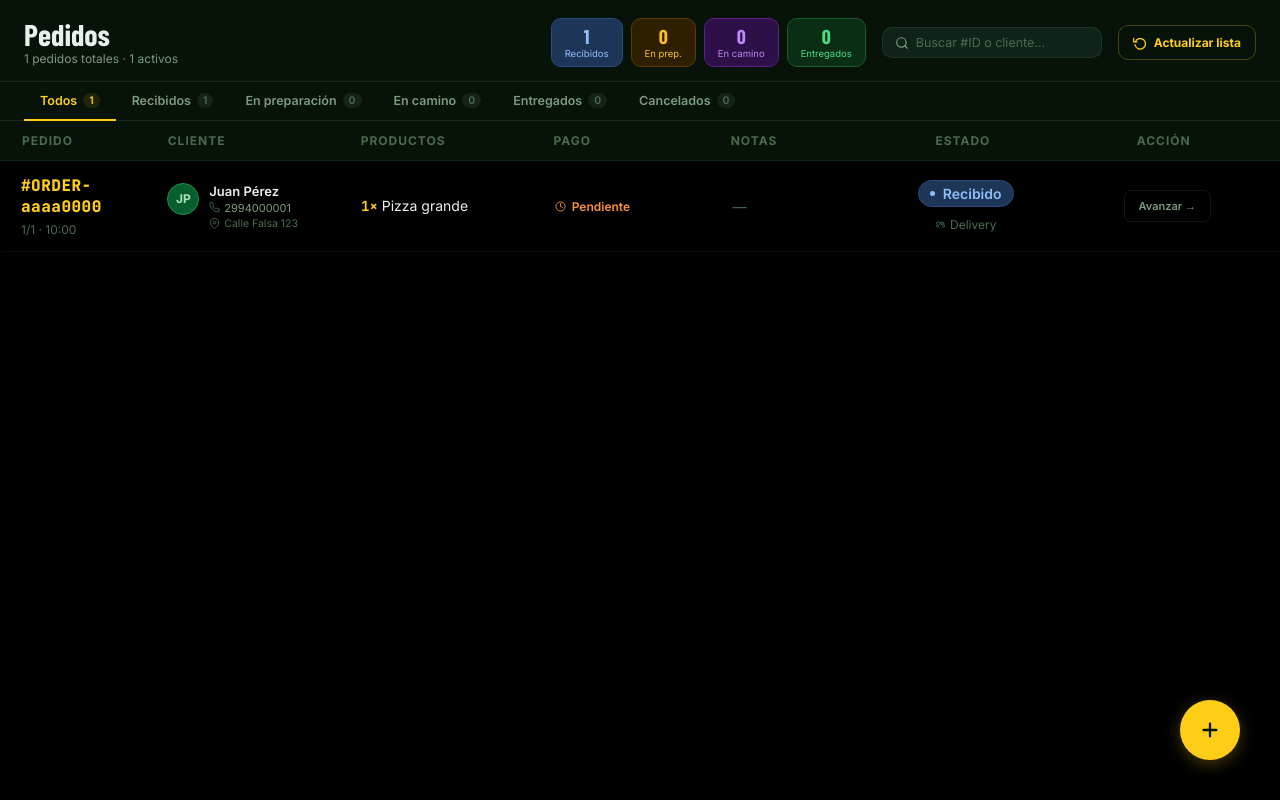
línea de descuento en el detalle (US-19-03) › el Total mostrado es el post-descuento
Click the element with class "orders-row": coordinates (640, 206) left=0, top=161, right=1279, bottom=252
(page scrolled)
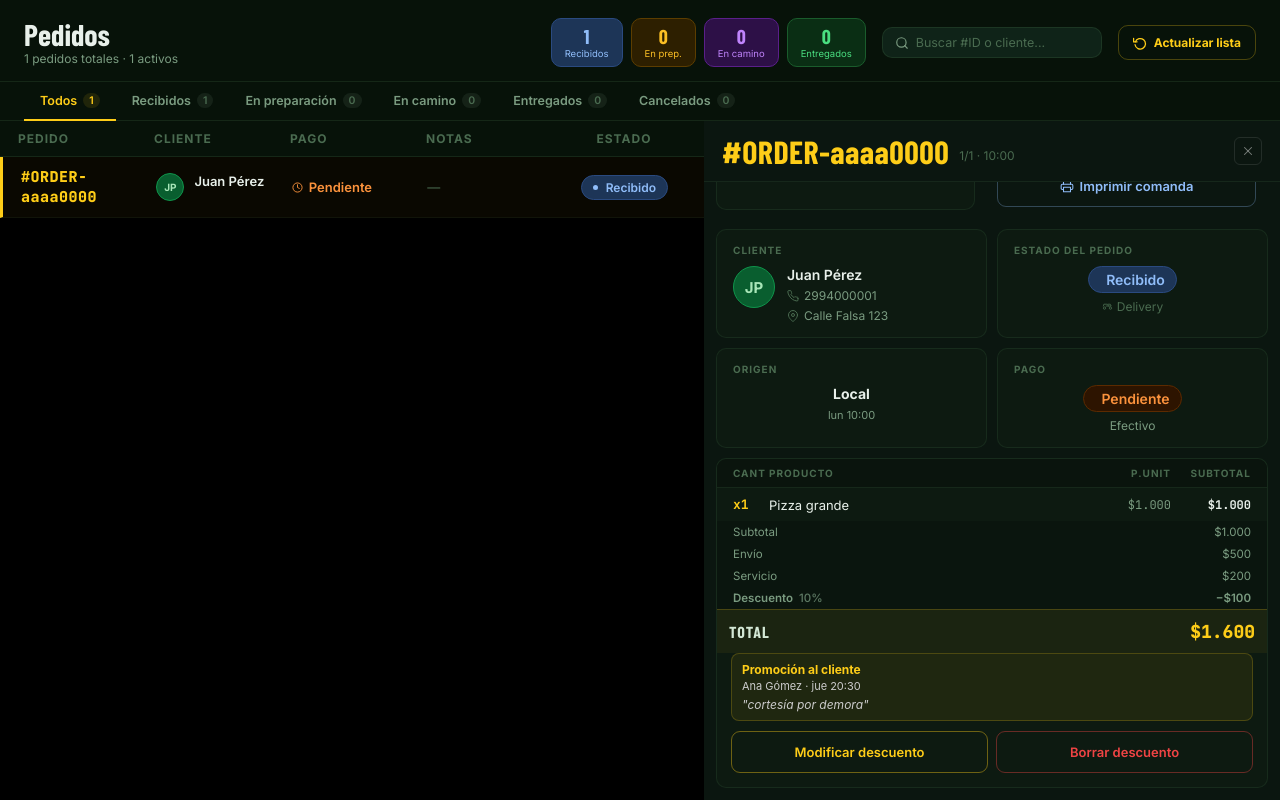
Expected: the text with class "detail-total-amount" shows "1.600", left=1190, top=620, right=1255, bottom=643
